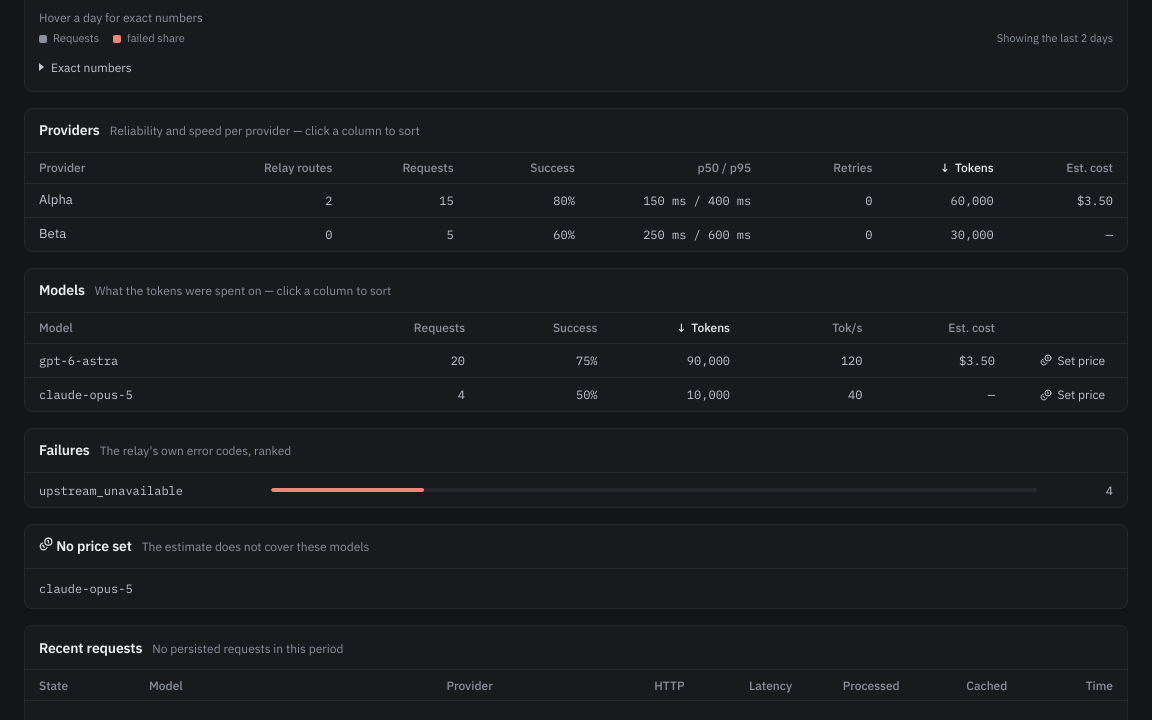
Test: InsightsPage › opens the price editor at a model straight from its row
The width and height of the screenshot is (1152, 720).
(page scrolled)
Click the button "Set price" in the row of "gpt-6-astra": click(1073, 360) left=1032, top=348, right=1113, bottom=372
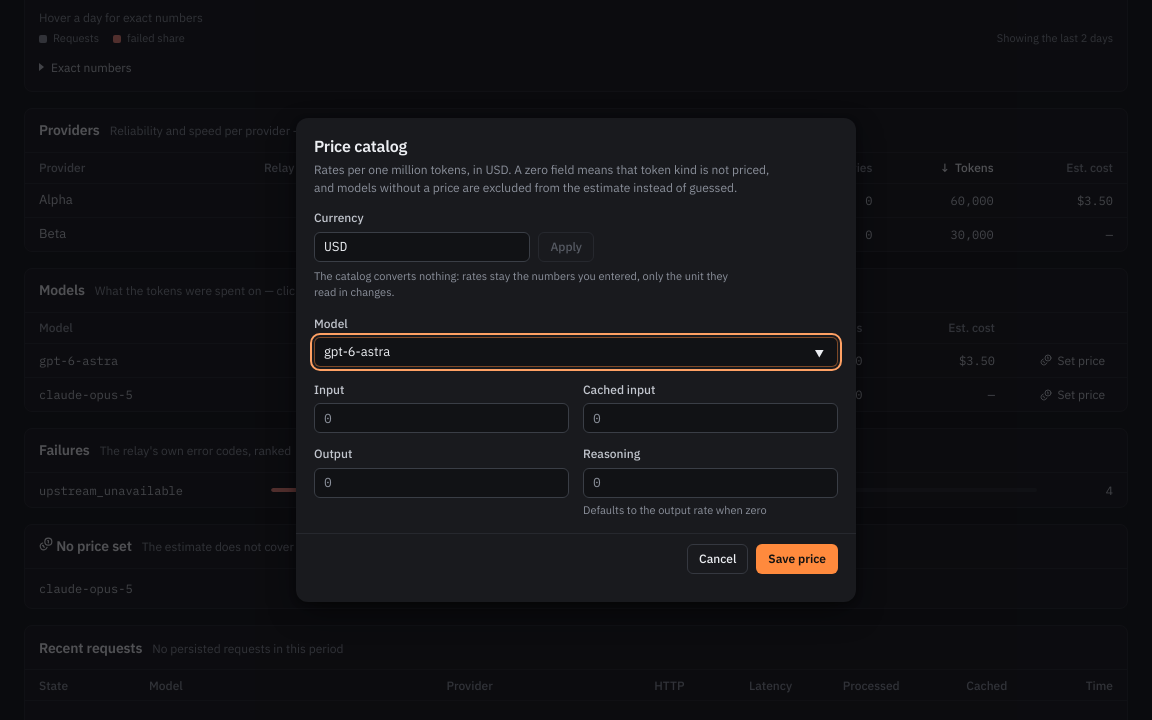
Now the field labelled "Model" holds "gpt-6-astra", box left=314, top=337, right=838, bottom=367
